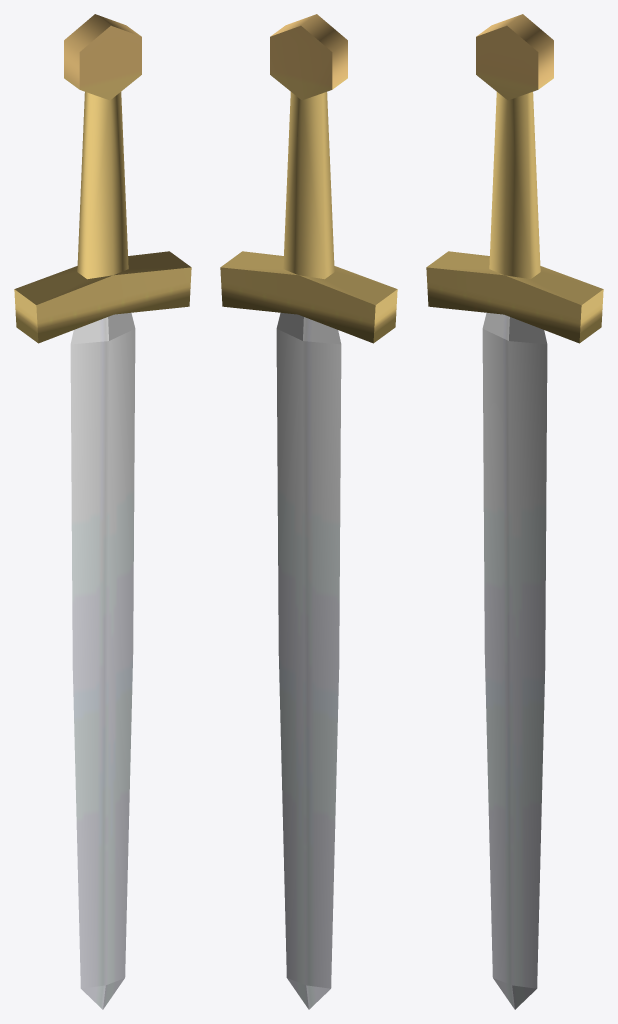
Rendered from list.icn.obj.
3 views of the same model, side by side, from view 1: azimuth 30°, elevation 25°; view 2: azimuth 150°, elevation 25°; view 3: azimuth 330°, elevation 25° (orthographic).
Size of the model in its own units: 0.8174 by 4.98 by 0.2009.
Materials: 1 (1 with a texture image).
